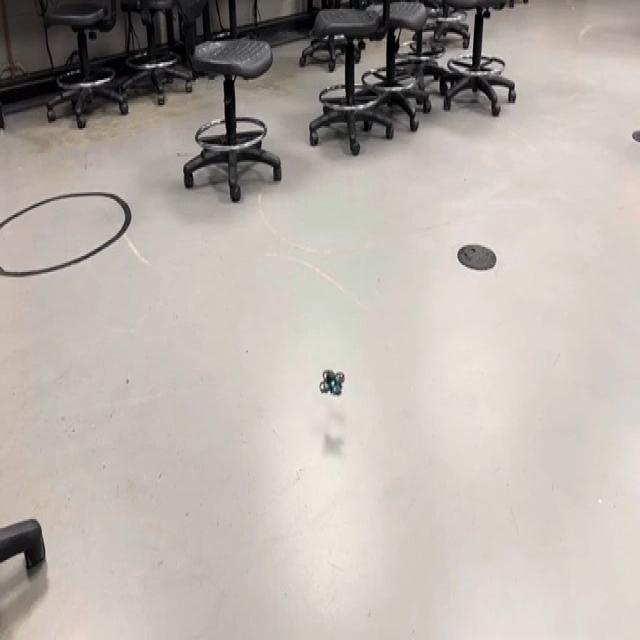drone: (310, 356, 352, 405)
